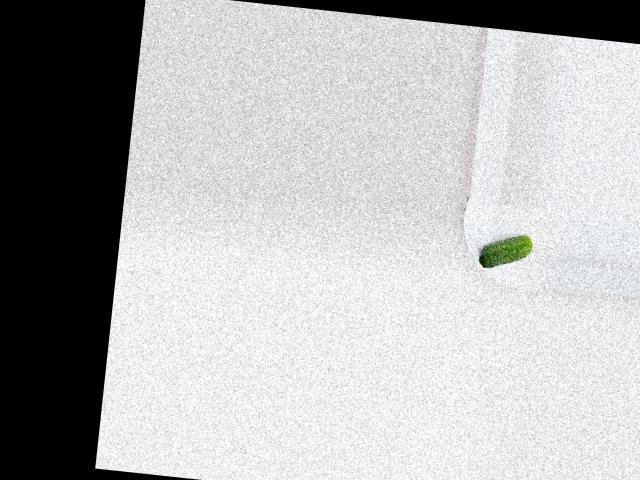cucumber: (478, 230, 533, 272)
